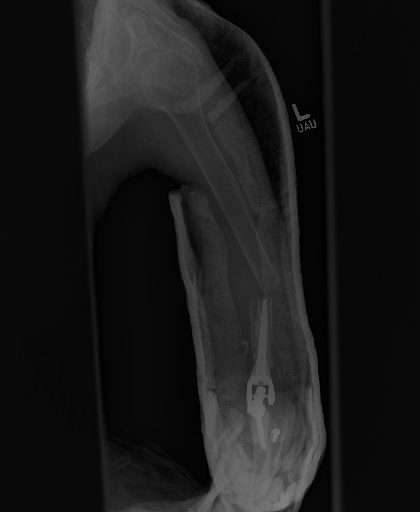fracture: (229, 215, 290, 357)
